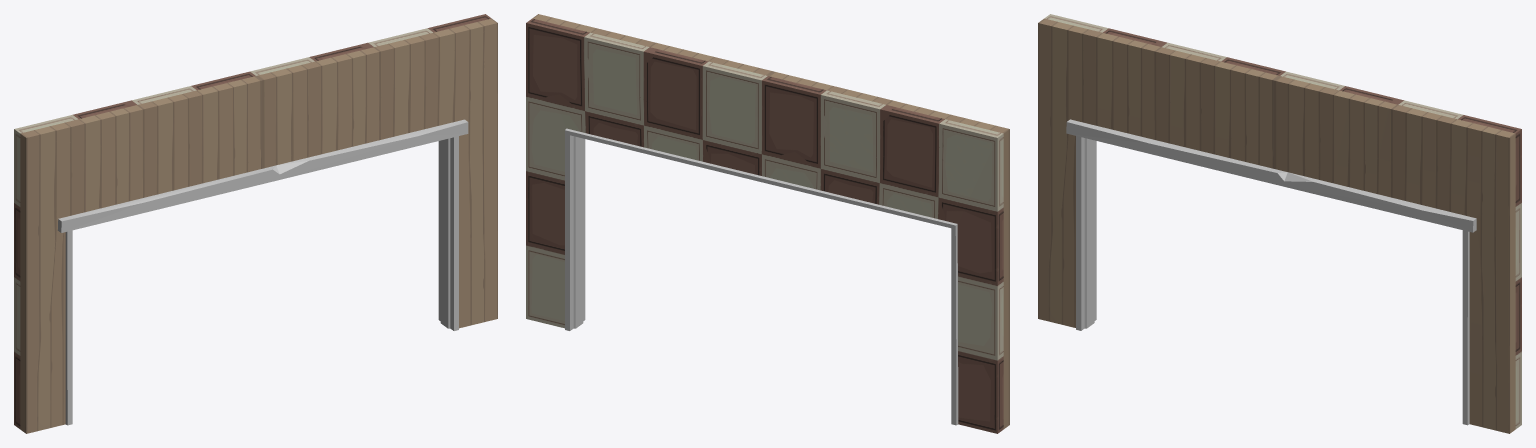
File: SM_Bld_ShopFront_08.fbx
3 views of the same model, side by side, from view 1: azimuth 30°, elevation 25°; view 2: azimuth 150°, elevation 25°; view 3: azimuth 330°, elevation 25° (orthographic).
Visible parts, largest first — view 1: SM_Bld_ShopFront_08; view 2: SM_Bld_ShopFront_08; view 3: SM_Bld_ShopFront_08.
Part boxes in pixels (x1,y1,x2,y2): SM_Bld_ShopFront_08: [14, 14, 497, 433]; SM_Bld_ShopFront_08: [526, 14, 1009, 433]; SM_Bld_ShopFront_08: [1038, 14, 1521, 433].
Size of the model in its own units: 500 by 300 by 32.45.
